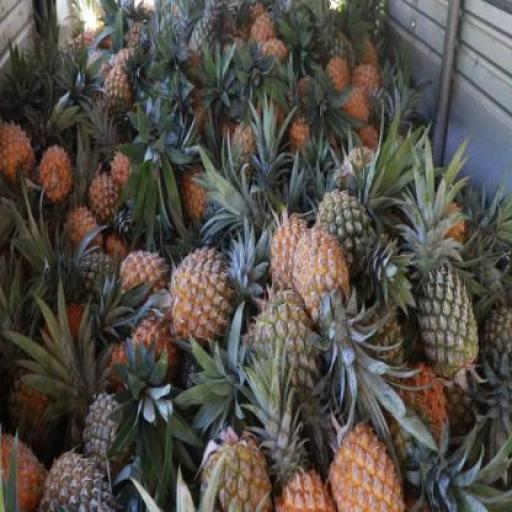------------------------------: (251, 291, 320, 390), (314, 190, 378, 288), (9, 374, 60, 448), (102, 68, 134, 126)
Pineapple - v8 v1: (330, 422, 408, 511), (293, 224, 353, 326), (170, 250, 232, 344), (269, 215, 318, 304), (0, 432, 47, 512), (129, 318, 174, 397), (120, 249, 164, 305), (0, 123, 39, 184), (87, 170, 125, 224), (39, 144, 68, 204)
